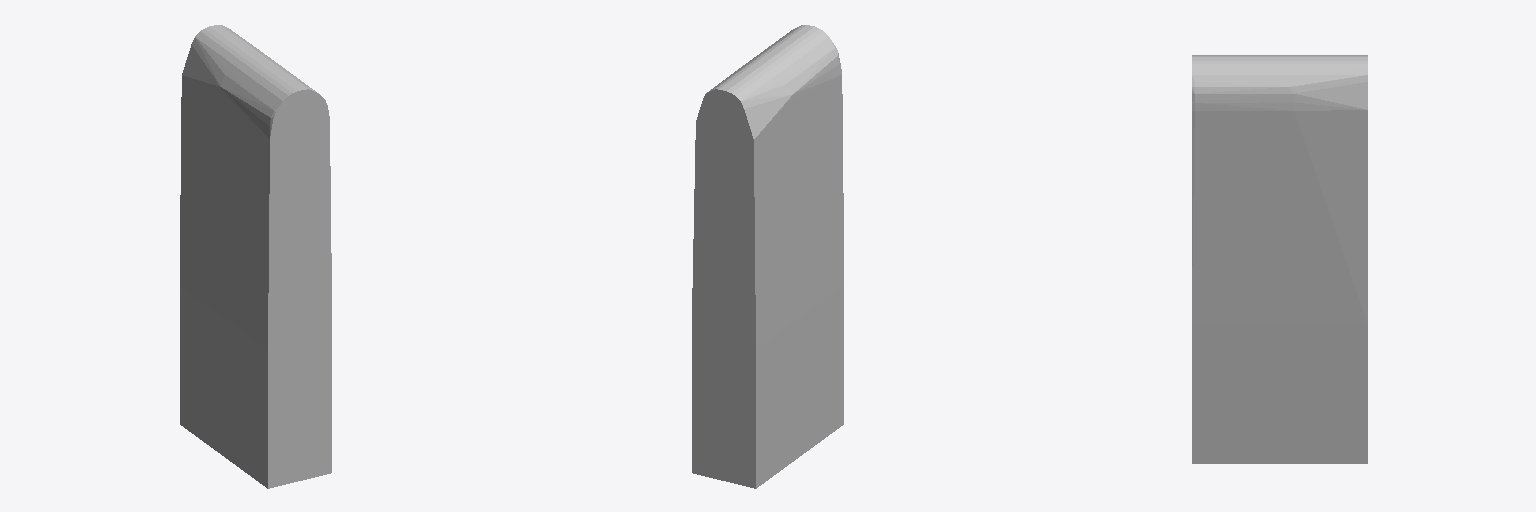
Rendered from Toaster_24_collision_5.obj.
The picture shows the model from 3 angles: view 1: azimuth 30°, elevation 25°; view 2: azimuth 150°, elevation 25°; view 3: azimuth 270°, elevation 25°; orthographic projection.
Bounding box in the file's own units: 0.0296 × 0.1737 × 0.0703.